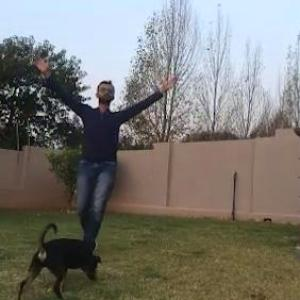takeoff: (0, 39, 182, 258)
